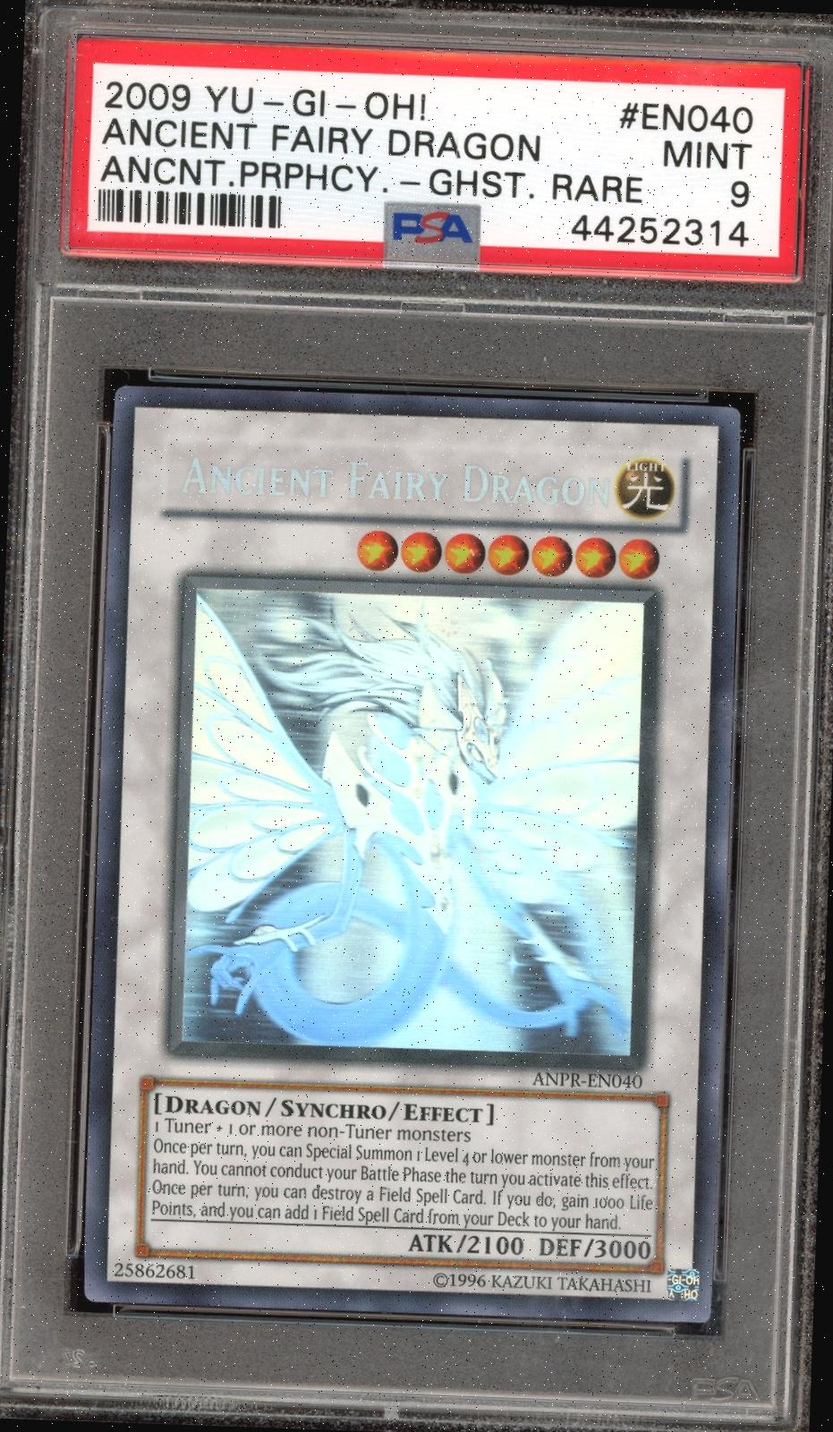card-2UtV: (83, 385, 741, 1323)
